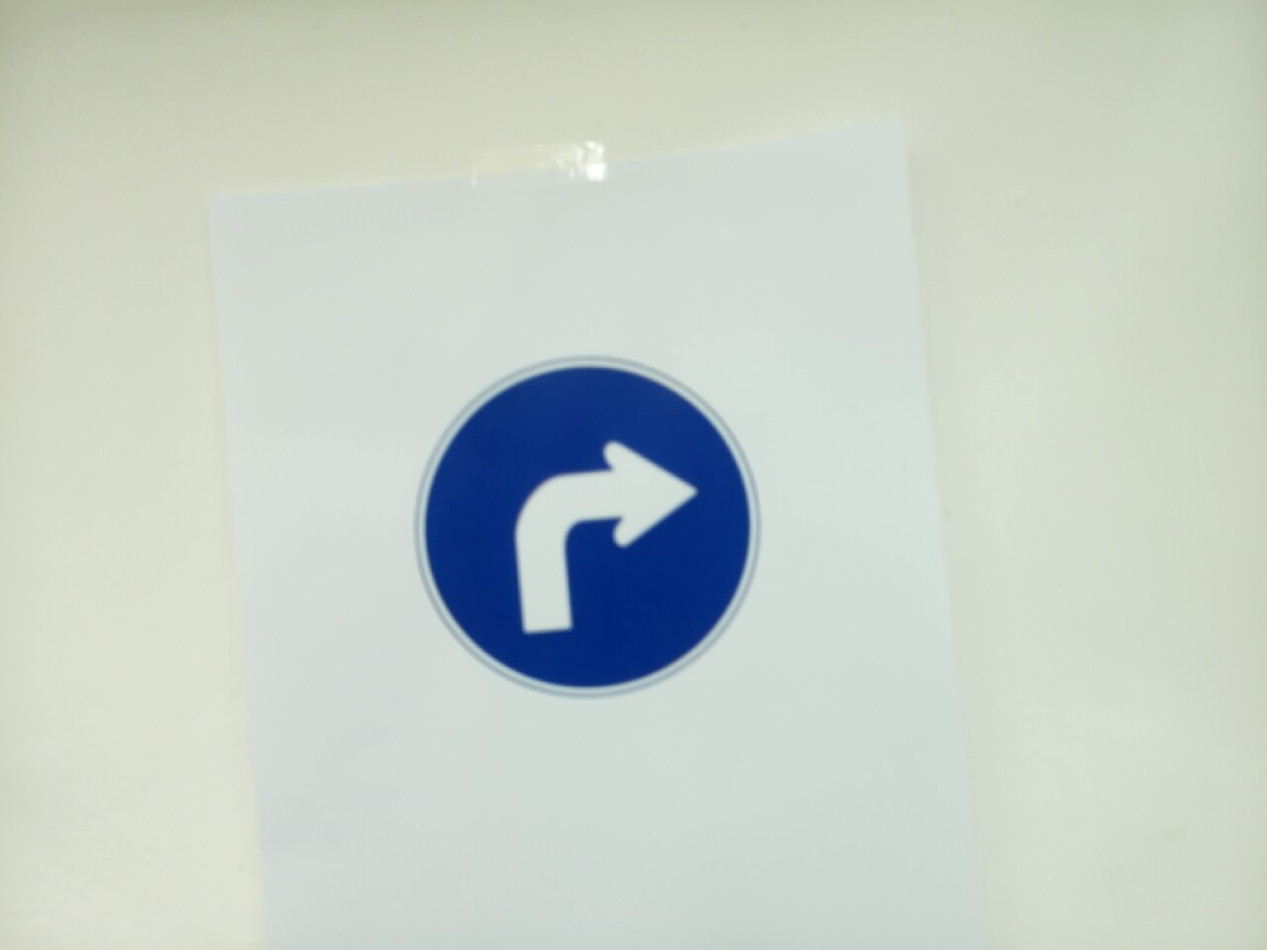right_turn: (415, 357, 760, 698)
